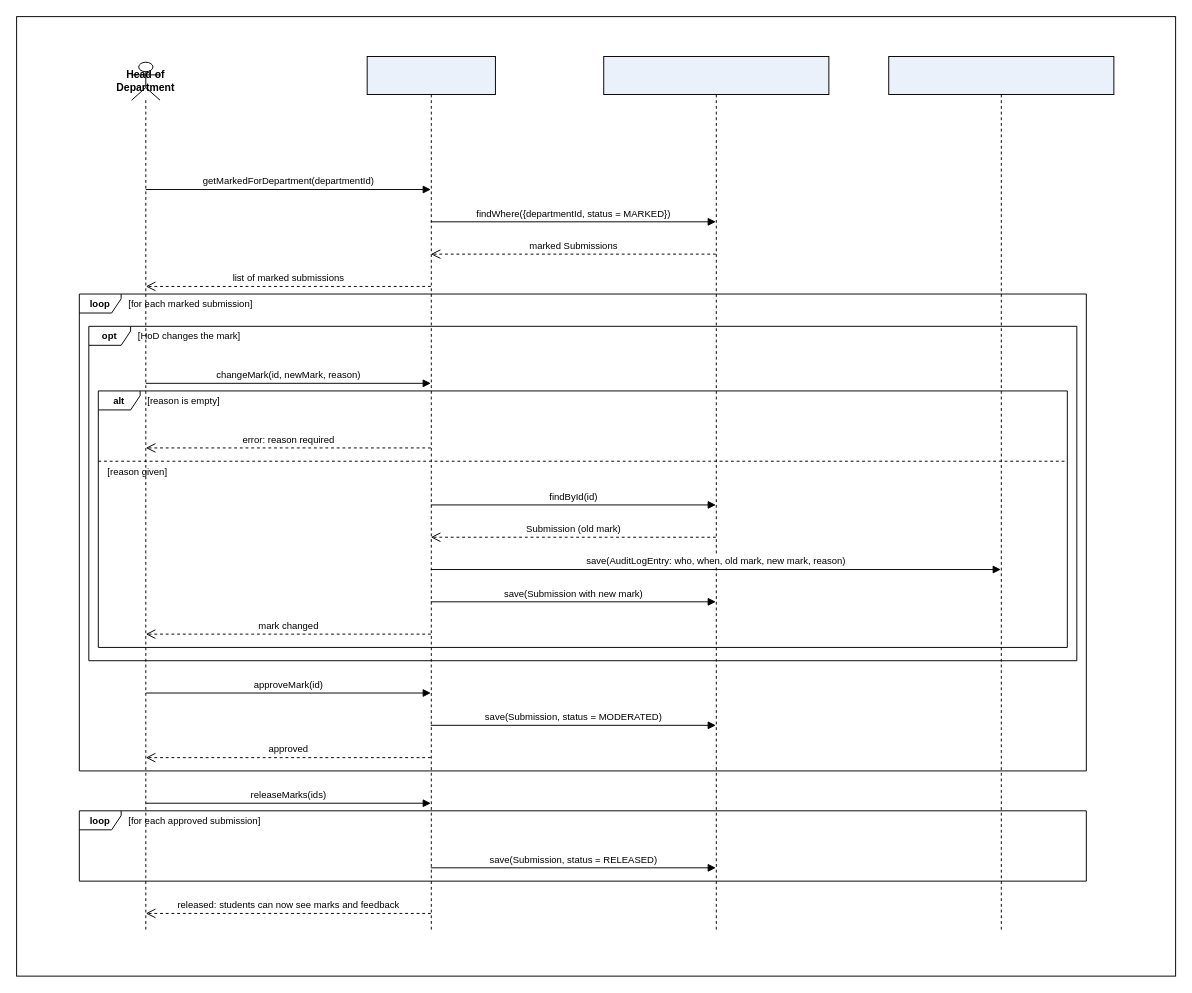
Some shapes in this 1192 by 993 pixel diagram are drawn without their labels. Each missing label, with the box of its shape:
:ModerationService: (366, 56, 495, 932)
auditLog:Repository<AuditLogEntry>: (888, 56, 1114, 932)
submissions:Repository<Submission>: (603, 56, 829, 932)
